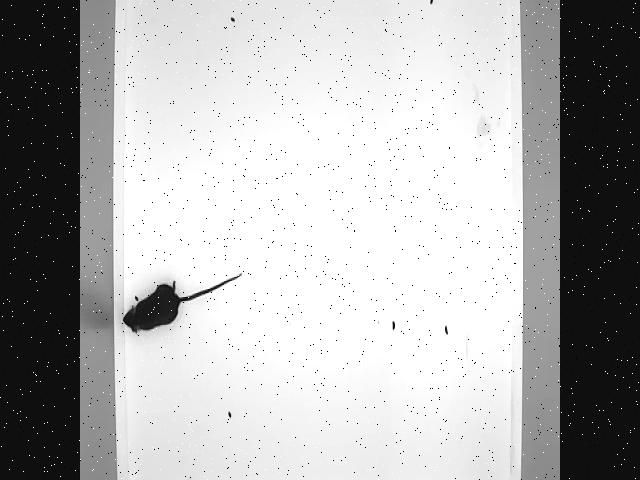Tikus: (120, 270, 244, 334)
